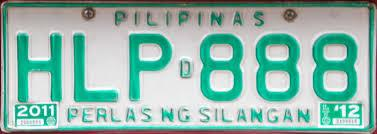plate: (0, 2, 375, 132)
